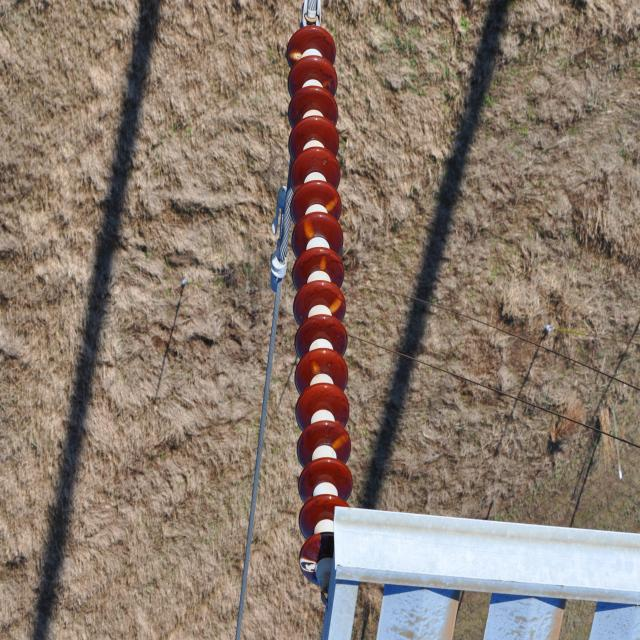insulator: (284, 28, 347, 585)
